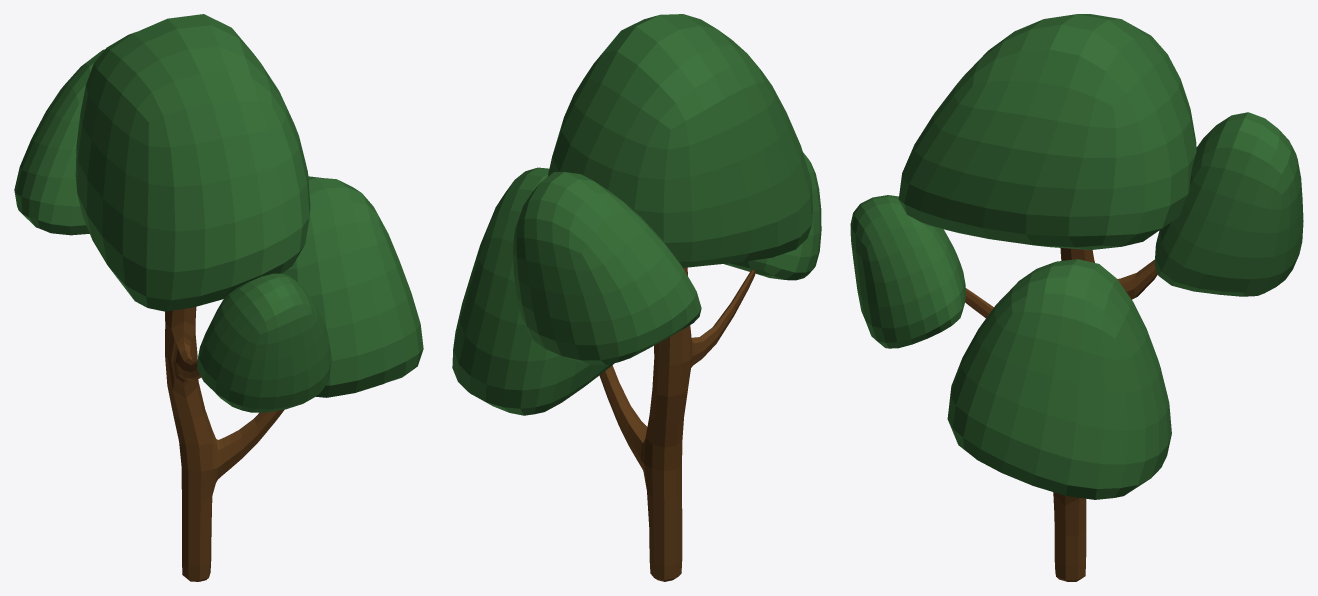
Rendered from Tree Type 2.fbx.
3 renders of one model, left to right at view 1: azimuth 30°, elevation 25°; view 2: azimuth 150°, elevation 25°; view 3: azimuth 270°, elevation 25°, orthographic.
Visible parts, largest first — view 1: Cube.049; view 2: Cube.049; view 3: Cube.049.
Boxes of the visible parts, x1,y1,x2,y2 form: Cube.049: (14, 14, 423, 581); Cube.049: (452, 14, 821, 581); Cube.049: (850, 14, 1303, 581).
Bounding box in the file's own units: 462 × 808 × 594.
